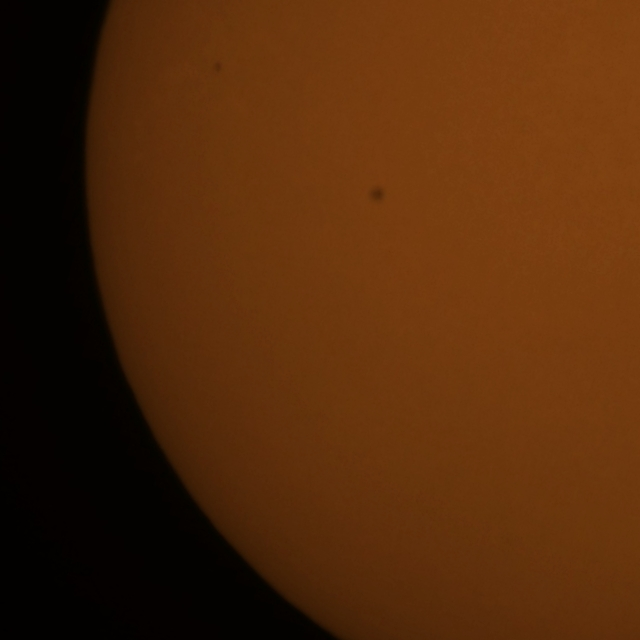sunspot: (367, 183, 387, 206), (212, 60, 224, 76)
